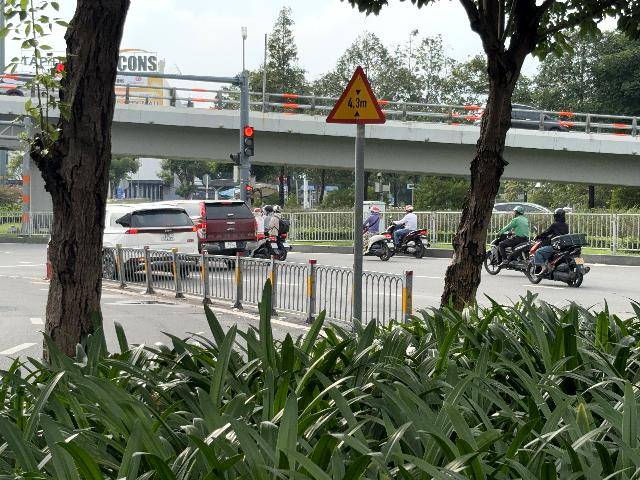chieu-cao-tinh-khong-thuc-te: (326, 65, 385, 124)
